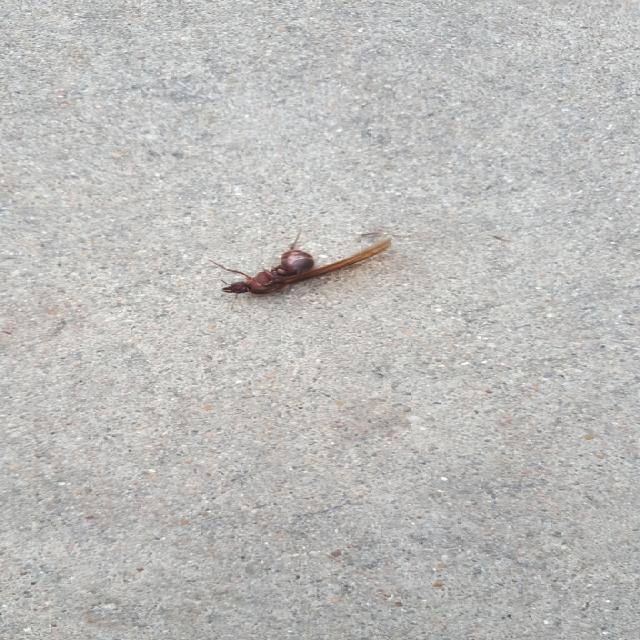Dead-Female-Alate: (207, 227, 393, 310)
